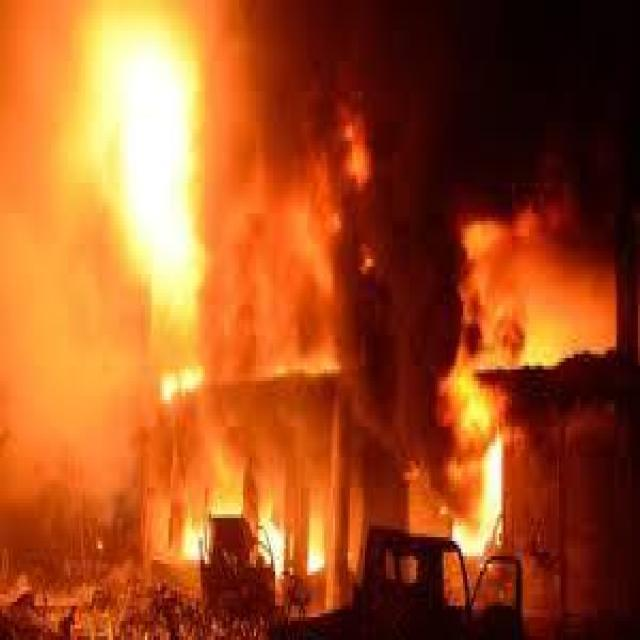Fire: (150, 53, 358, 594), (70, 19, 226, 408), (429, 224, 559, 572)
Smoke: (332, 6, 453, 509), (456, 7, 640, 270)
